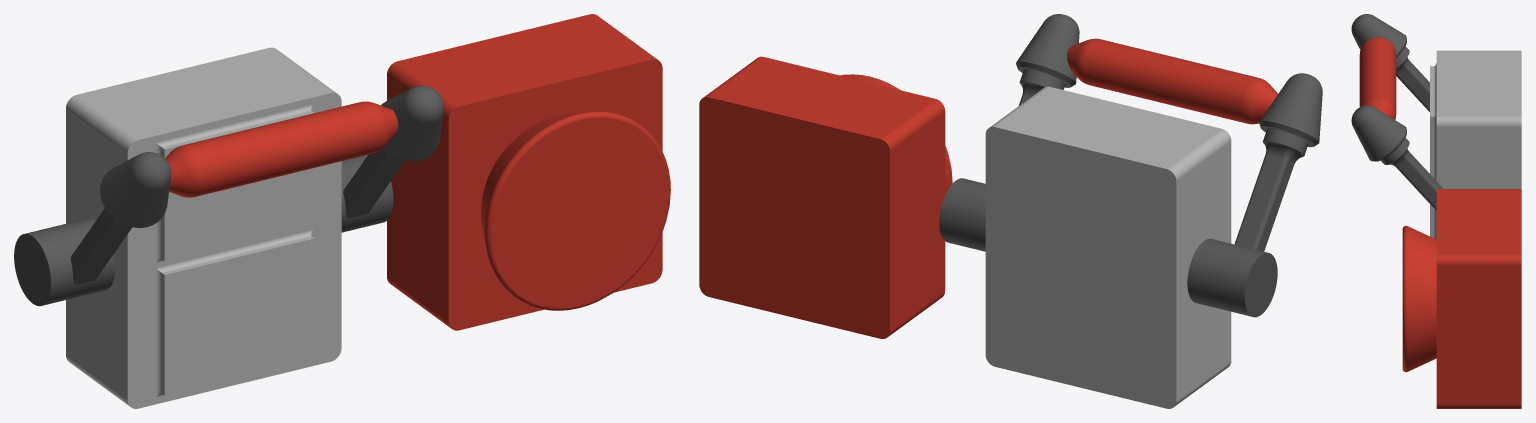
File: botoes e alavancas v5.fbx
3 renders of one model, left to right at view 1: azimuth 30°, elevation 25°; view 2: azimuth 150°, elevation 25°; view 3: azimuth 270°, elevation 25°, orthographic. The views are drawn at different scales.
Parts seen in each view (by area): view 1: Body1, Body2, Body8, Body6, Body5, Body4, Body3; view 2: Body2, Body1, Body8, Body6, Body4, Body5, Body3; view 3: Body1, Body2, Body5, Body8, Body6.
Boxes of the visible parts, x1,y1,x2,y2 form: Body1: (387,14,670,330); Body2: (66,47,341,408); Body8: (165,101,398,197); Body6: (70,152,171,284); Body5: (343,85,443,218); Body4: (14,218,115,306); Body3: (341,155,393,232); Body2: (985,86,1231,408); Body1: (699,56,952,338); Body8: (1067,38,1277,124); Body6: (1234,73,1322,251); Body4: (1187,238,1277,317); Body5: (1016,14,1079,105); Body3: (939,178,985,251); Body1: (1402,189,1521,408); Body2: (1430,50,1521,239); Body5: (1351,105,1443,210); Body8: (1359,37,1396,119); Body6: (1351,14,1429,111).
Size of the model in its own units: 140 by 67.36 by 50.09.
